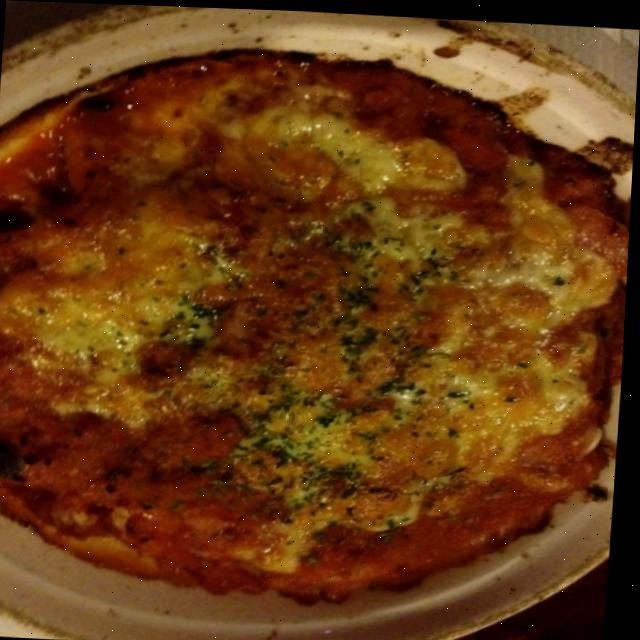米饭主食: (0, 23, 613, 623)
